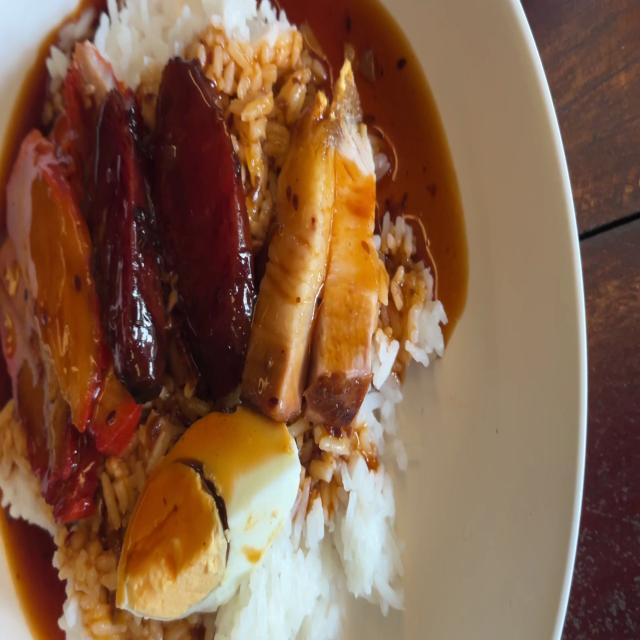01boiled_egg: (115, 412, 299, 612)
01chainese_sausage: (109, 84, 241, 378), (152, 47, 249, 390), (99, 84, 158, 372)
01crispy_pork: (257, 59, 376, 439), (250, 98, 341, 396), (312, 70, 381, 382)
01red_pork: (0, 104, 127, 500), (0, 139, 91, 394), (78, 40, 119, 124)
01red_pork_and_crispy_pork: (0, 0, 445, 640)
01rice: (275, 430, 405, 624), (70, 0, 306, 74), (56, 516, 119, 640)
